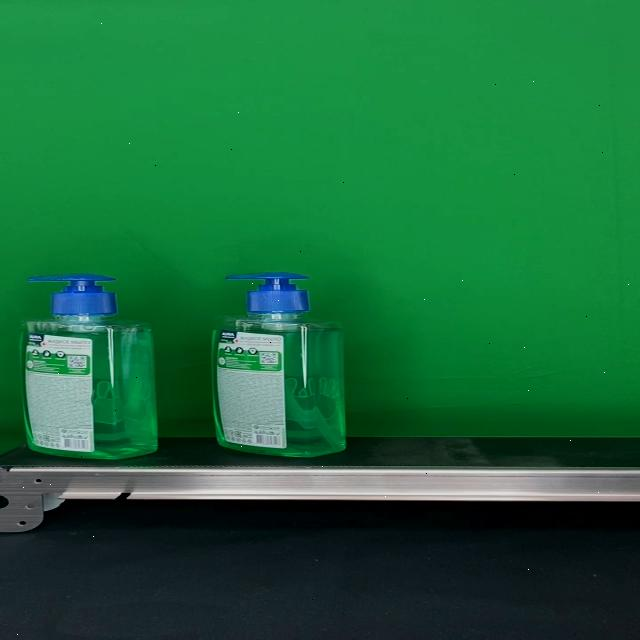Bottle: (21, 273, 158, 459), (210, 273, 346, 458)
Cap: (27, 273, 116, 315), (226, 272, 308, 314)
